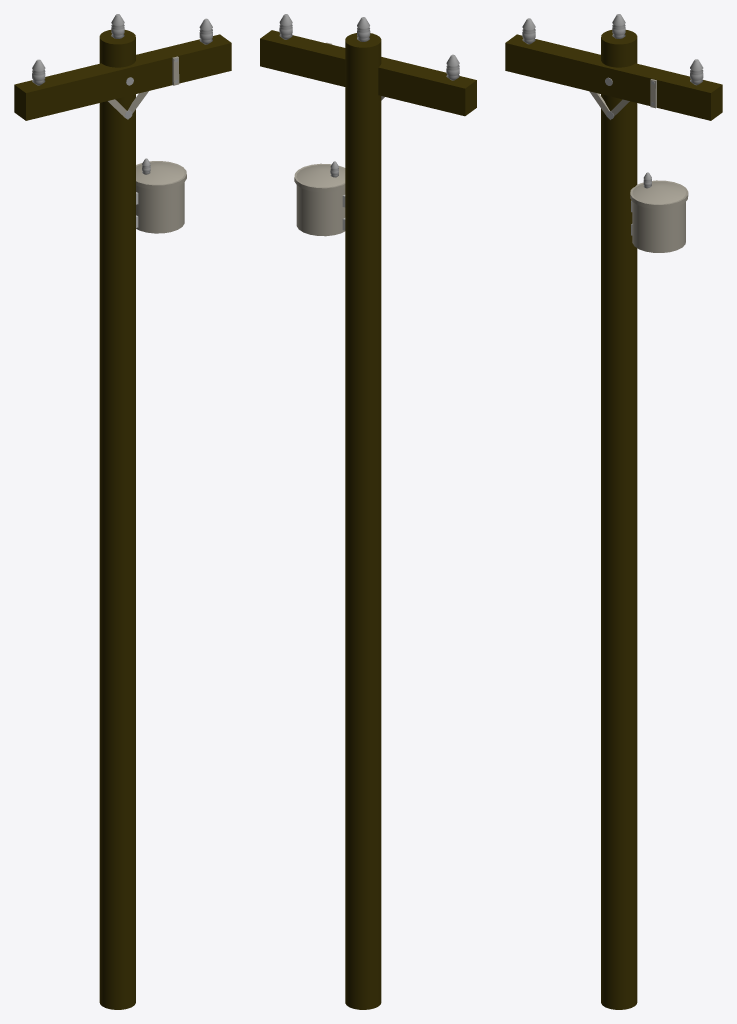
The model's file is telephonePole.fbx.
The picture shows the model from 3 angles, left to right: view 1: azimuth 30°, elevation 25°; view 2: azimuth 150°, elevation 25°; view 3: azimuth 330°, elevation 25°; orthographic projection.
Parts seen in each view (by area): view 1: pCube7; view 2: pCube7; view 3: pCube7.
Boxes of the visible parts, <box> form: pCube7: <box>14,14,231,1009</box>; pCube7: <box>260,14,476,1009</box>; pCube7: <box>505,14,722,1009</box>.
Bounding box in the file's own units: 3.64 × 16.69 × 0.8946.
